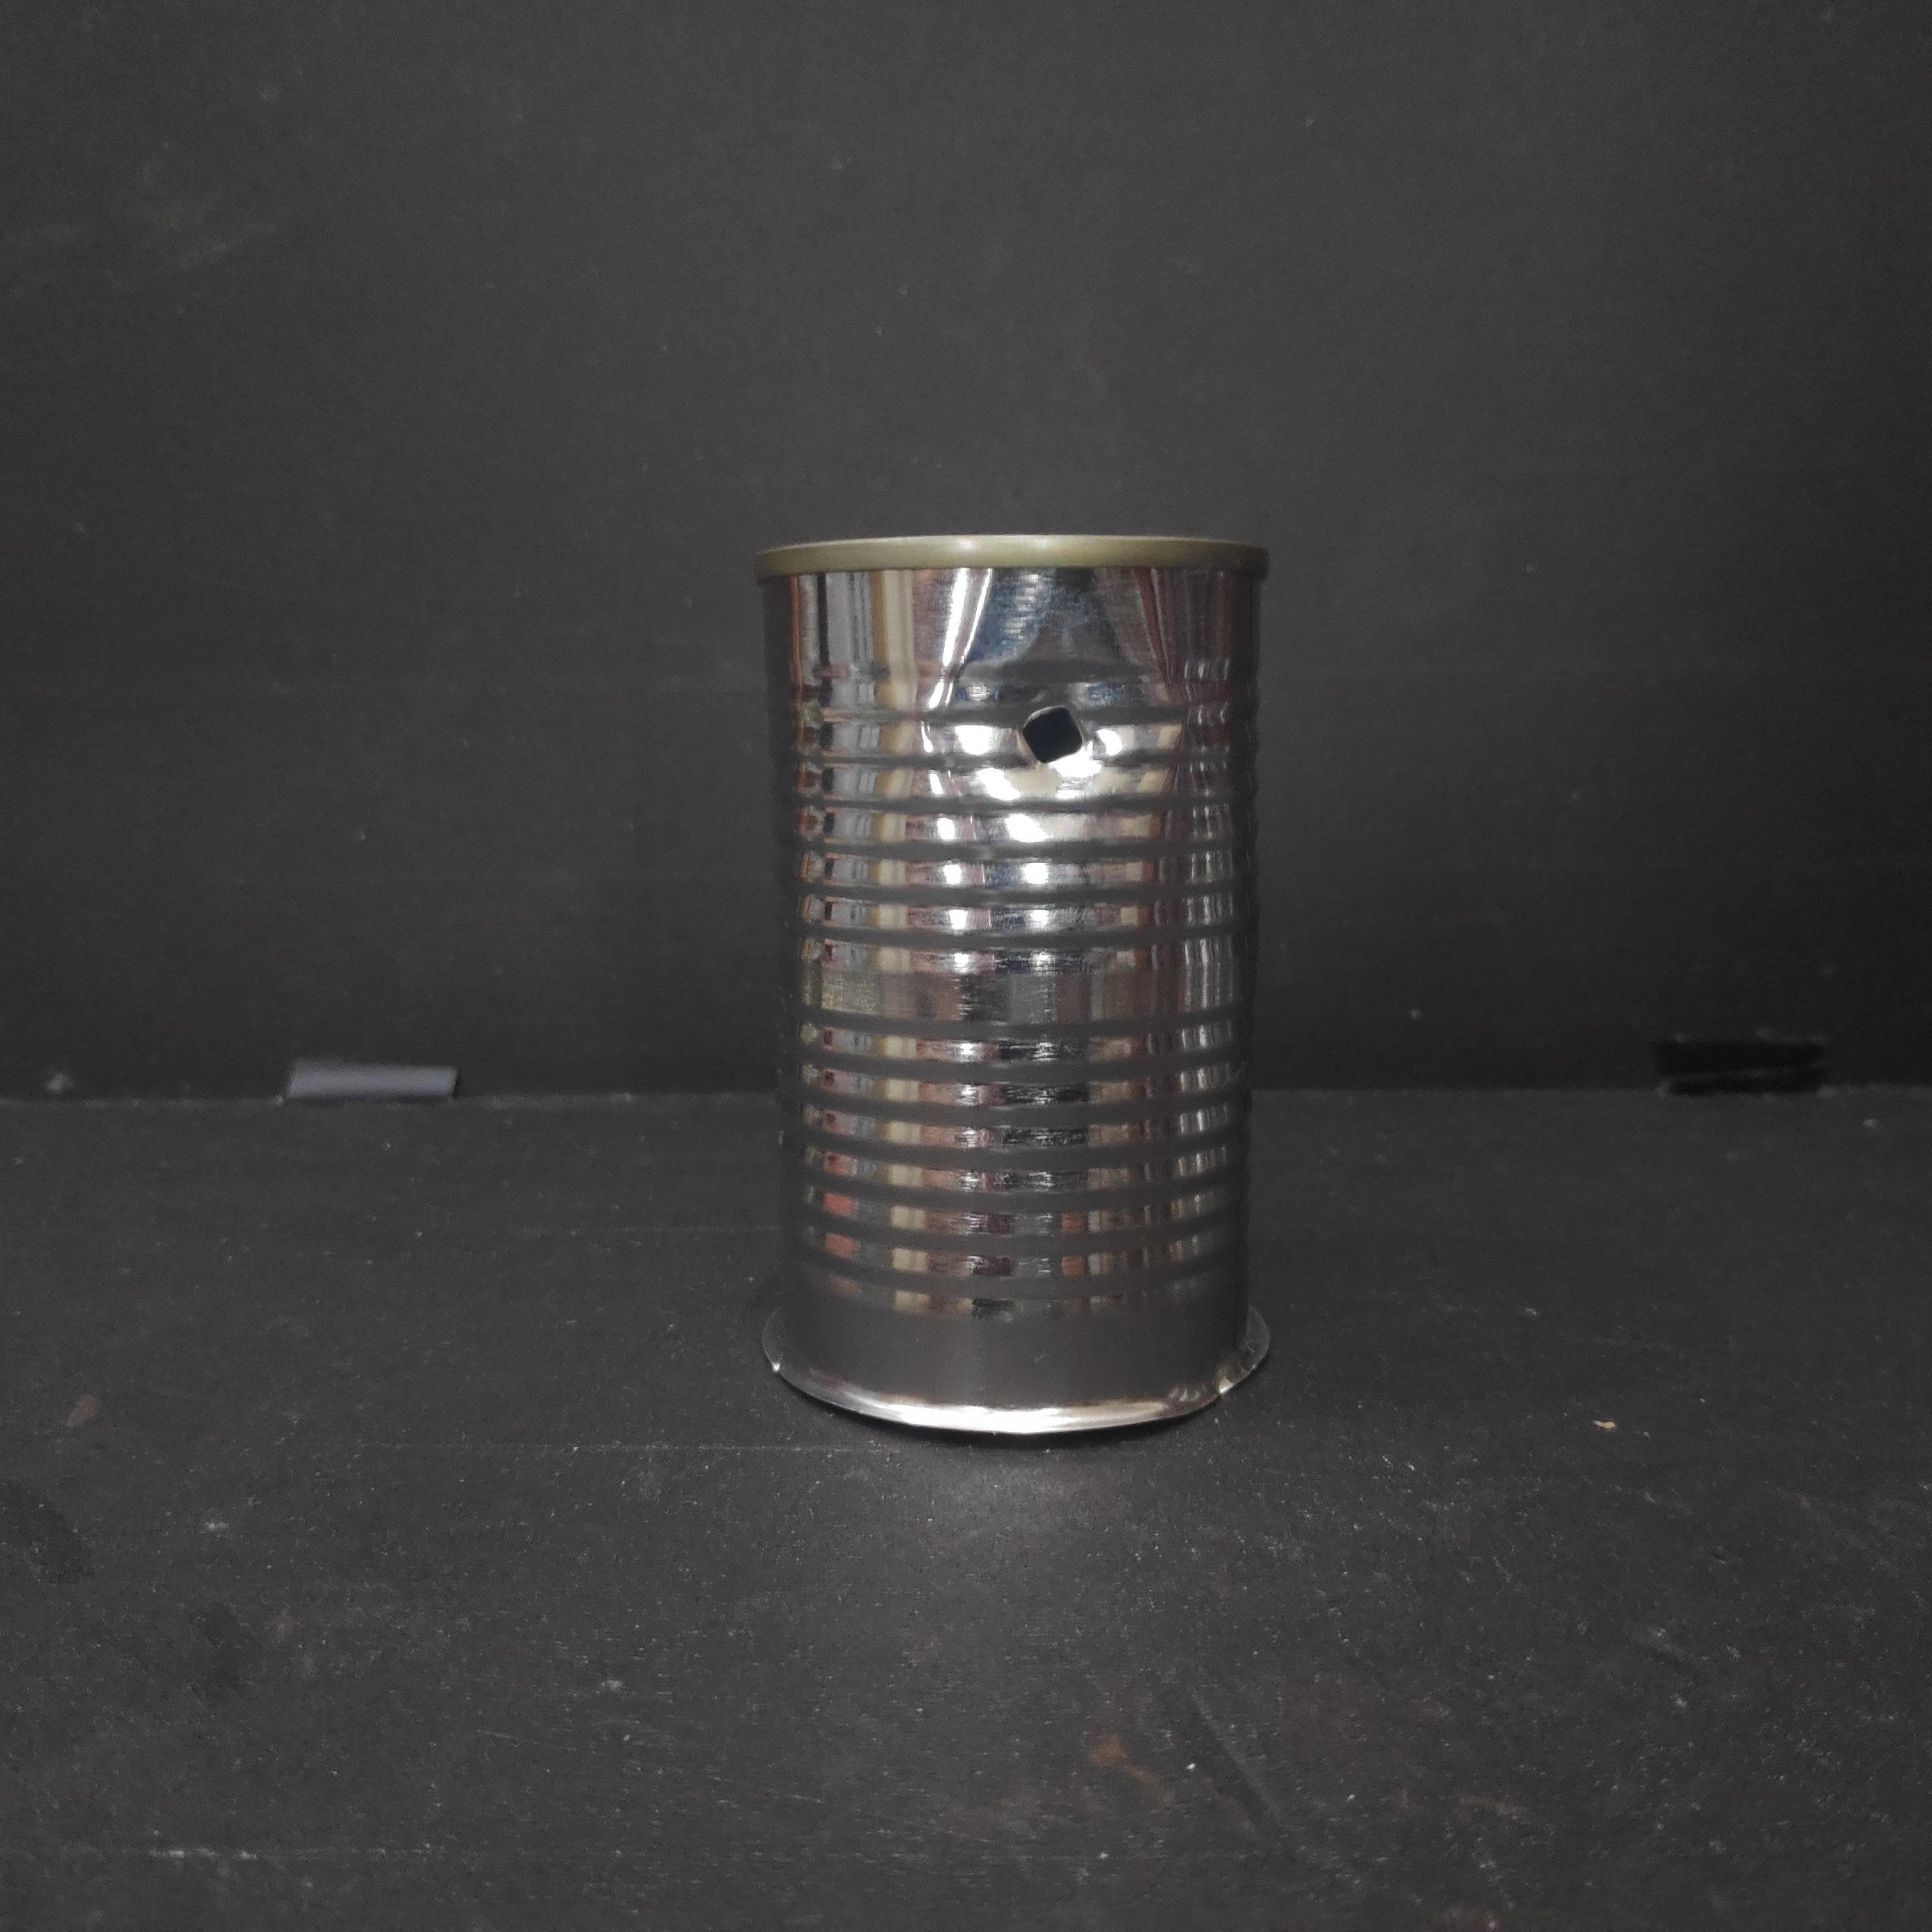Critical Defect: (739, 525, 1278, 1448)
